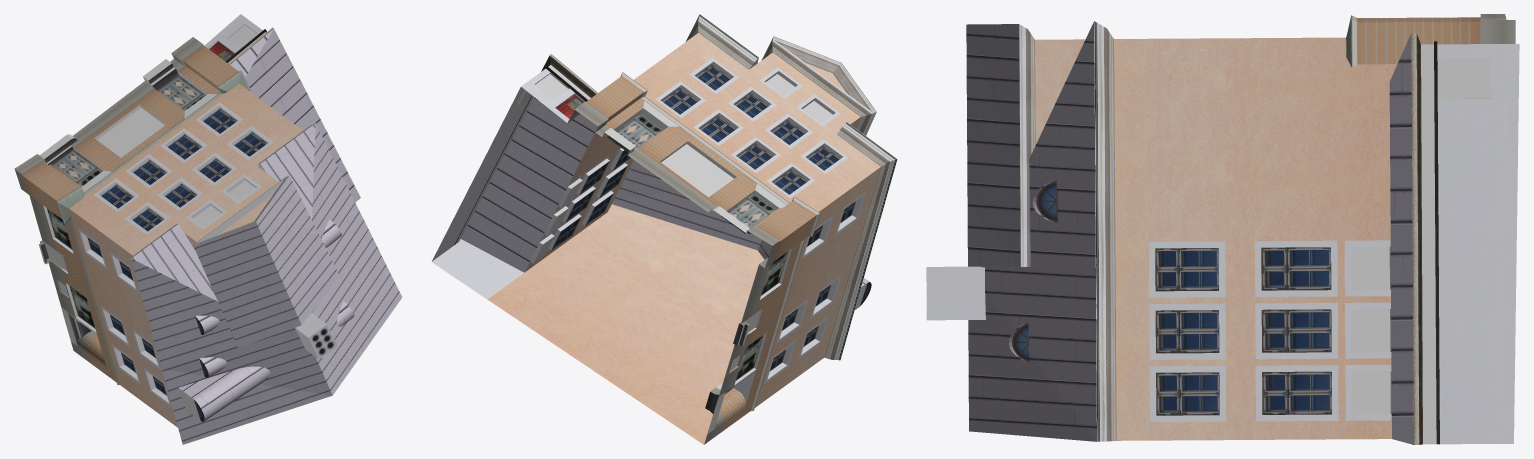
The model's file is Pikk_14.obj.
3 views of the same model, side by side, from view 1: azimuth 30°, elevation 25°; view 2: azimuth 150°, elevation 25°; view 3: azimuth 270°, elevation 25° (orthographic). The views are drawn at different scales.
Parts seen in each view (by area): view 1: mesh01; view 2: mesh01; view 3: mesh01.
Part boxes in pixels (x1,y1,x2,y2): mesh01: [14, 14, 402, 444]; mesh01: [431, 14, 897, 444]; mesh01: [926, 14, 1519, 444].
Bounding box in the file's own units: 20.41 × 18.61 × 18.51.
